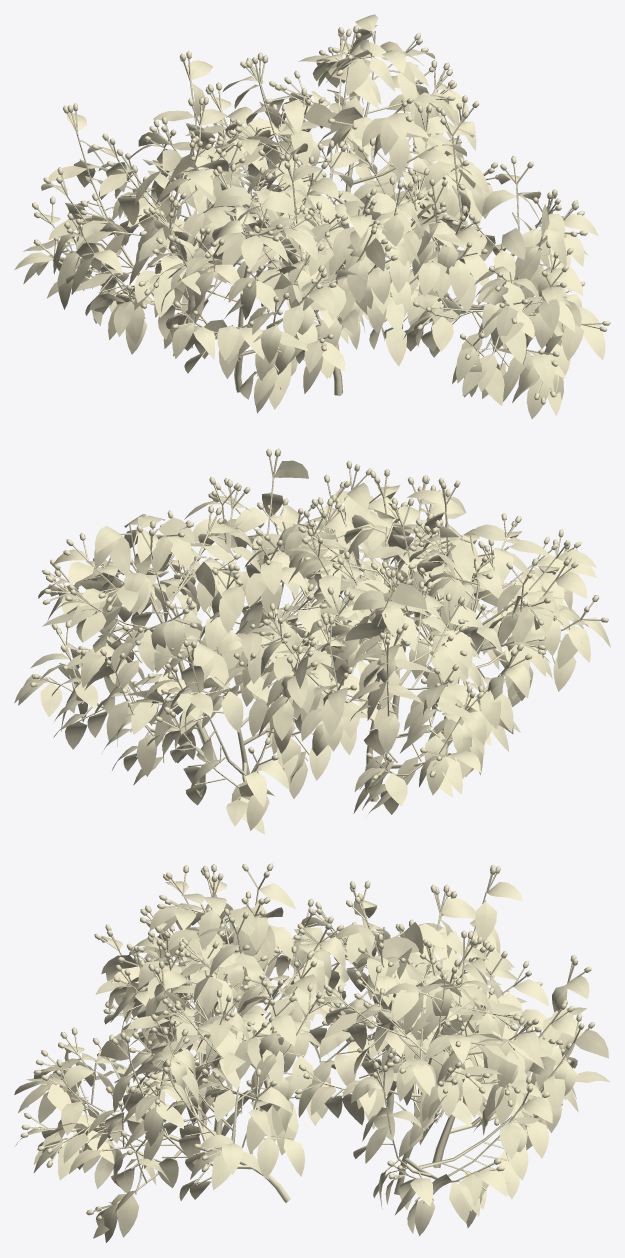
The picture shows the model from 3 angles, top to bottom: view 1: azimuth 30°, elevation 25°; view 2: azimuth 150°, elevation 25°; view 3: azimuth 270°, elevation 25°; orthographic projection.
Parts seen in each view (by area): view 1: cadnav; view 2: cadnav; view 3: cadnav.
Part boxes in pixels (x1=…): cadnav: x1=14, y1=14, x2=610, y2=418; cadnav: x1=14, y1=448, x2=610, y2=834; cadnav: x1=14, y1=863, x2=610, y2=1242.
Size of the model in its own units: 8996 by 4954 by 10000.
